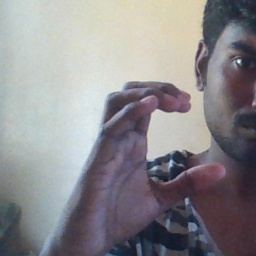C: (97, 77, 229, 205)
